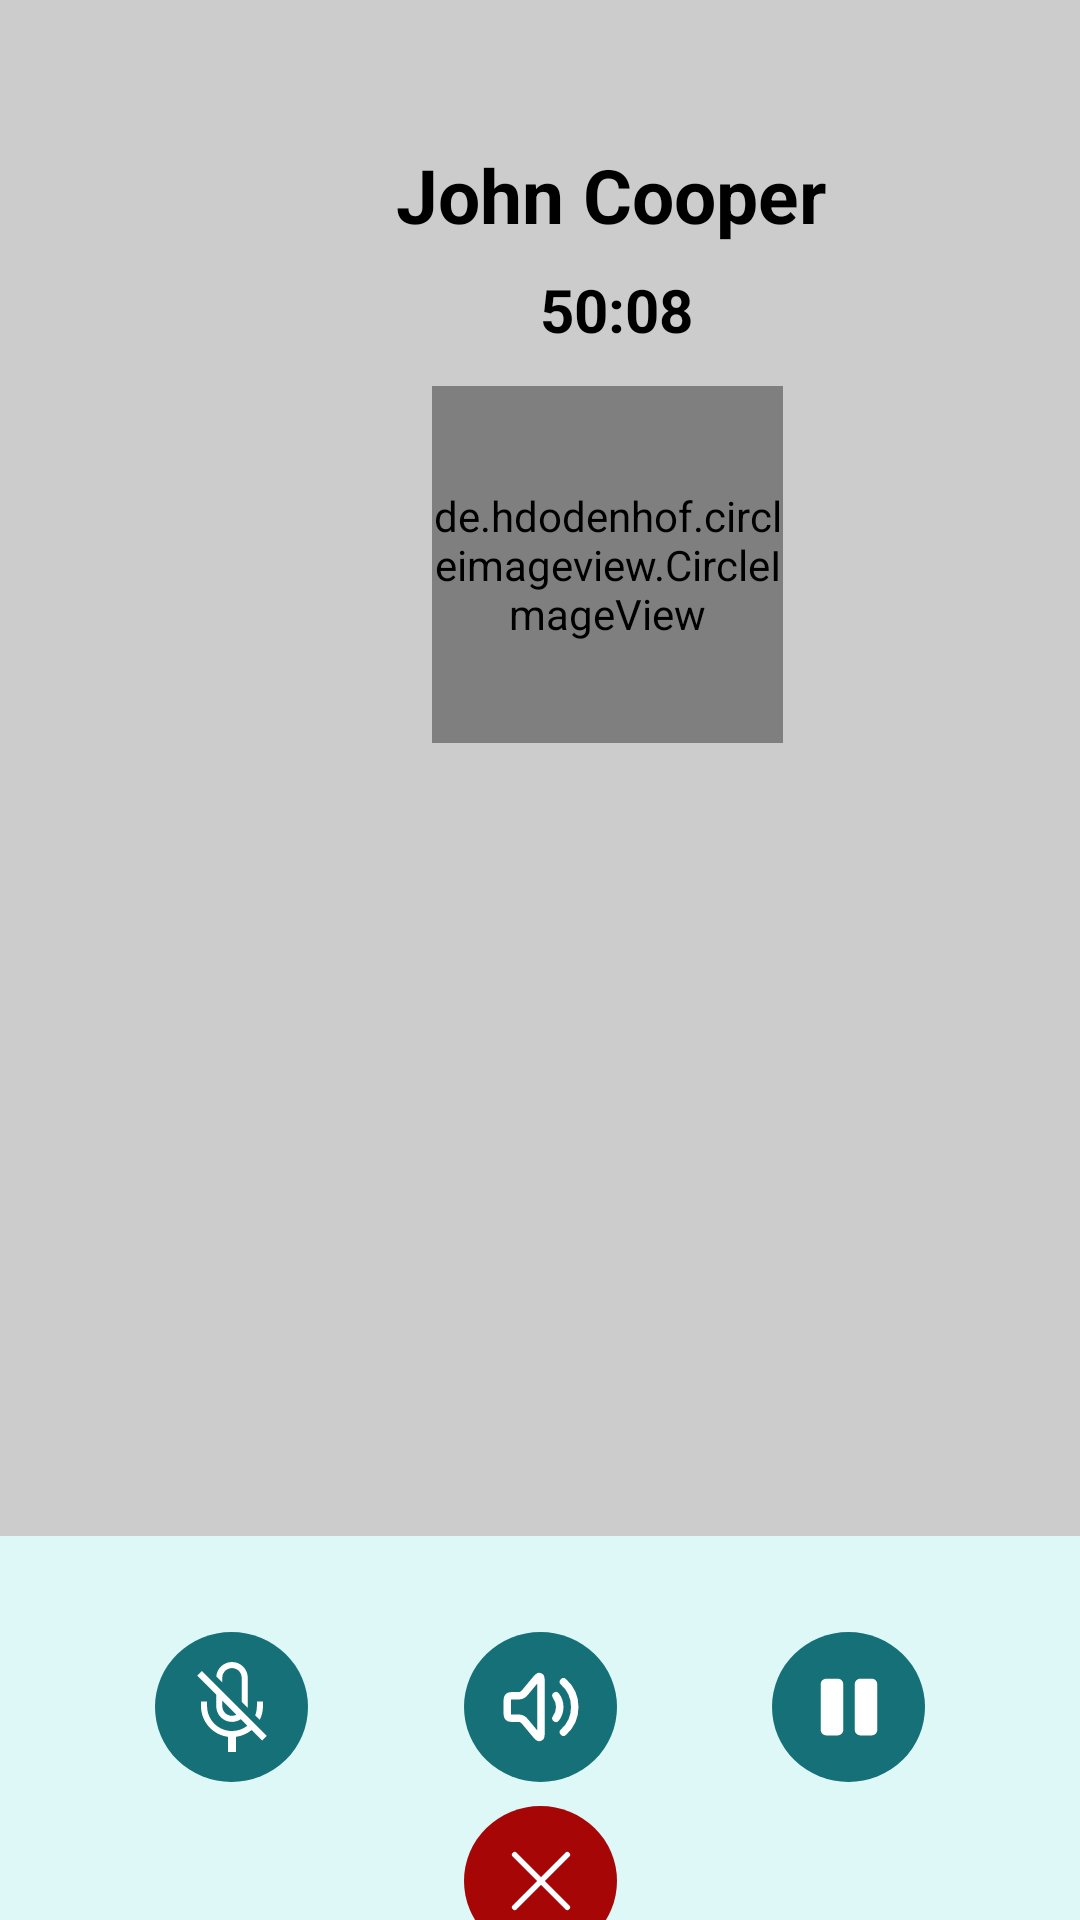

Icons on this 1080px x 1920px Android screen, each with its box as box(x1, y1, x2, y2):
mute: box(155, 1632, 308, 1782)
pause: box(772, 1632, 925, 1782)
volume max: box(464, 1632, 617, 1782)
